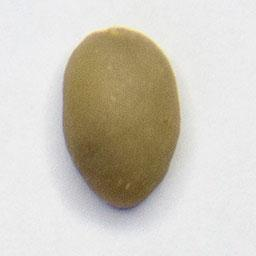premium: (58, 22, 185, 214)
